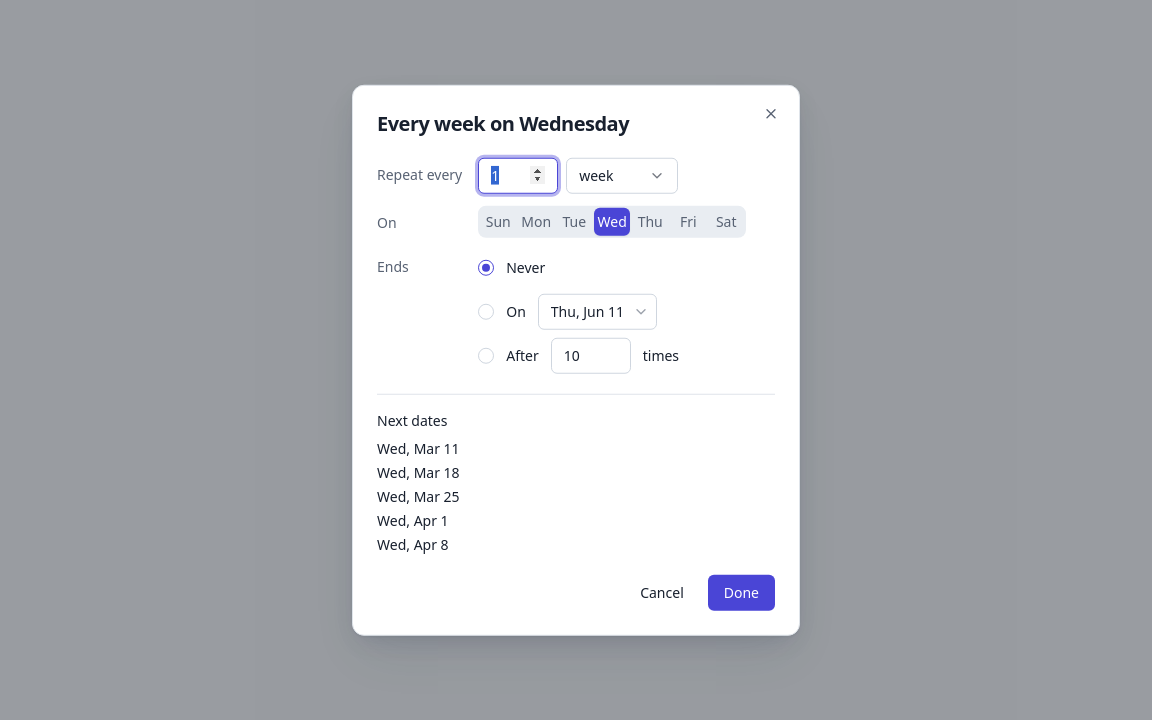
Test: RecurrenceDialog › takes a typed end date before the start, and says why it refuses it
The image size is (1152, 720).
Click the dropdown labelled "On" at x=597, y=311, box [538,293,657,329]
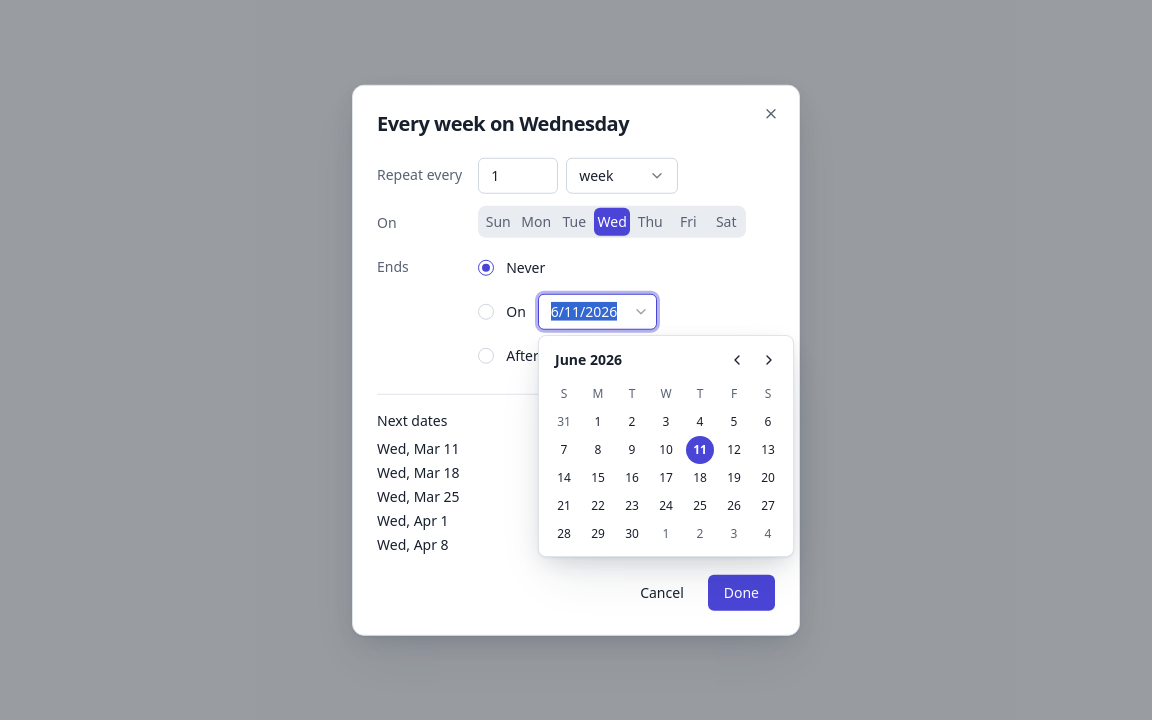
Type keys "3/1/2026{Enter}"
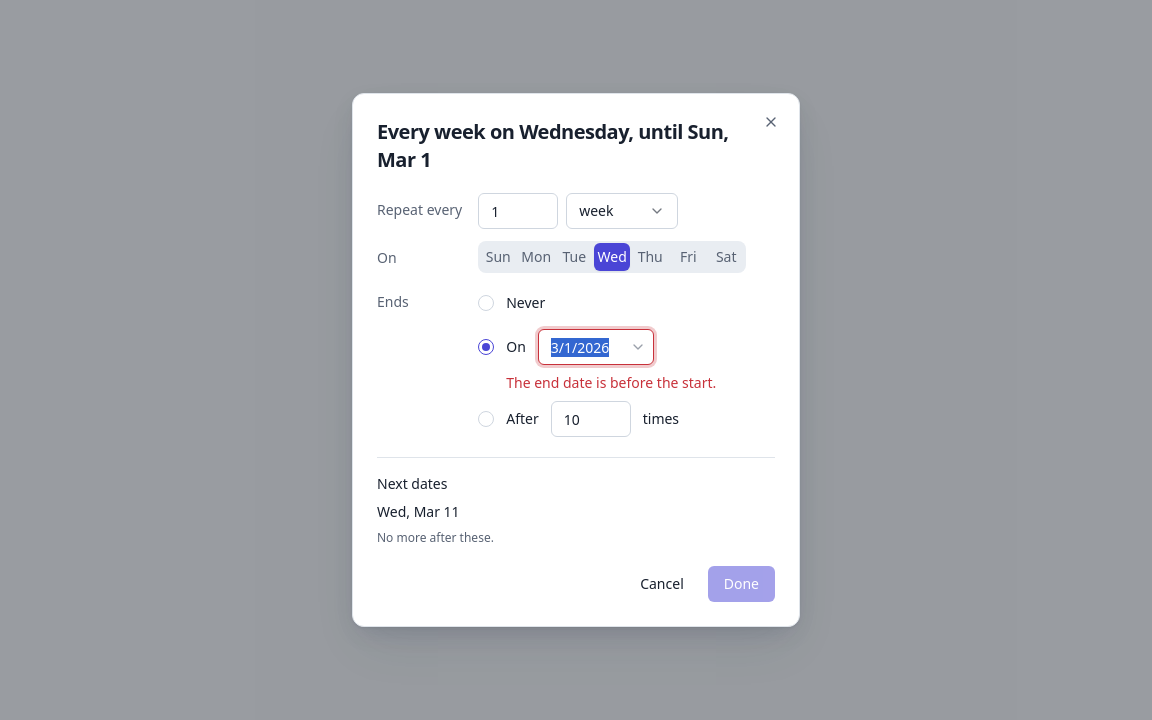
expect the message reads "The end date is before the start.": met, box [506,373,716,392]
expect the button "Done" is disabled: met, box [708,566,775,602]
